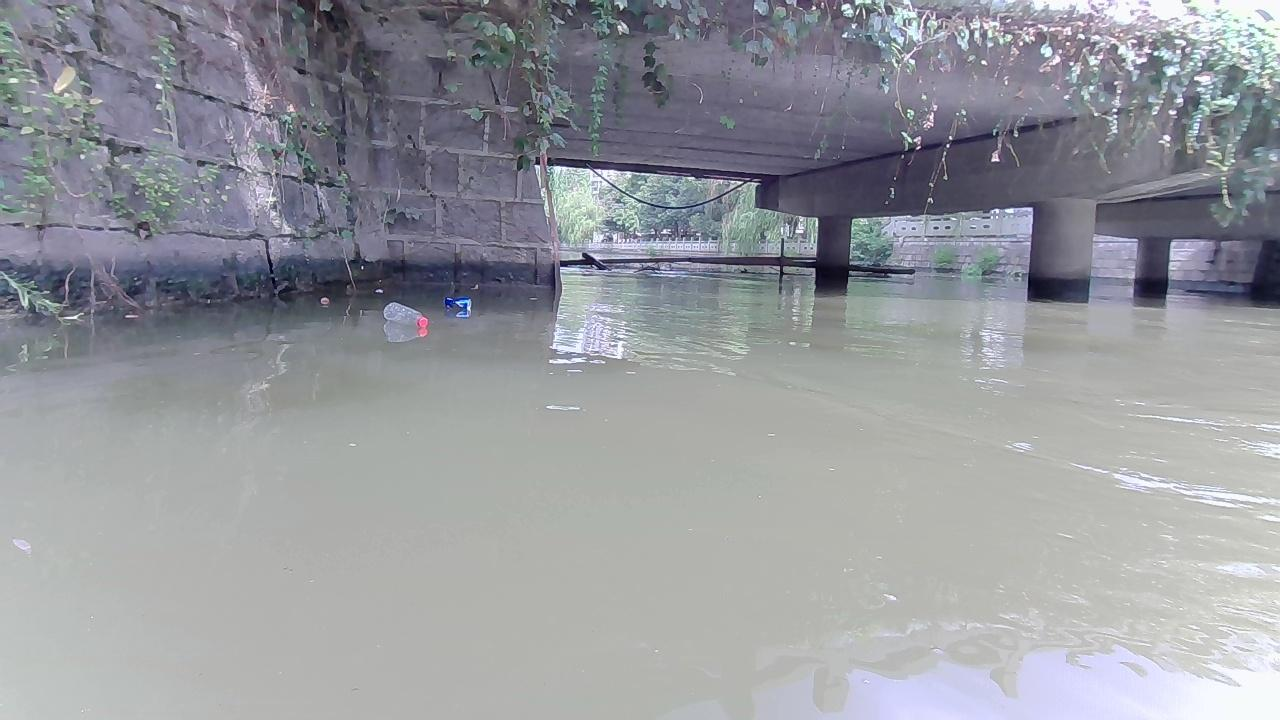bottle: (382, 300, 427, 327), (442, 296, 471, 308)
